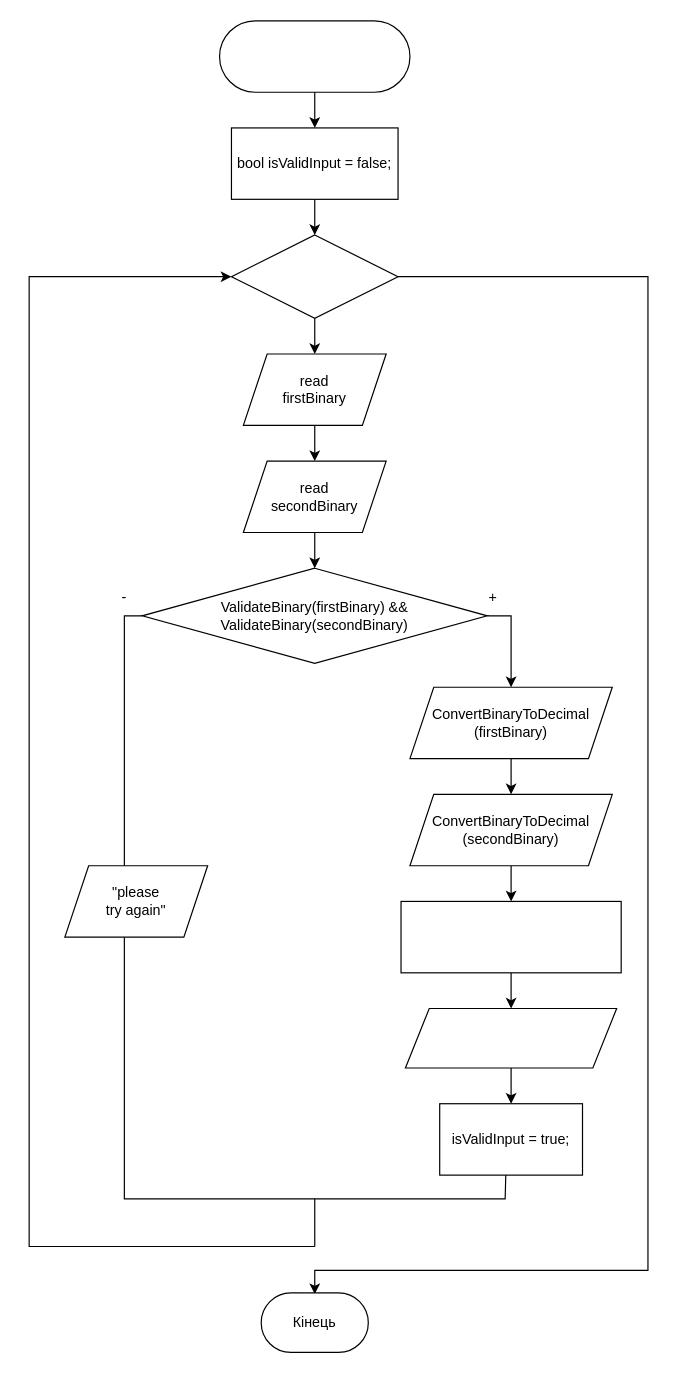
The diagram is 678 pixels wide and 1373 high, and some of its shapes have lost their labels. The box of each missing label's shape, as (x1, y1, x2, y2) in pixels:
!isValidInput: (230, 234, 398, 318)
ConvertBinaryToDecimal (sum): (404, 1007, 617, 1068)
static void Main (string[] args): (218, 20, 410, 92)
string sum = GetSumOfTwoBinaries (firstBinary, secondBinary);: (400, 900, 621, 973)
